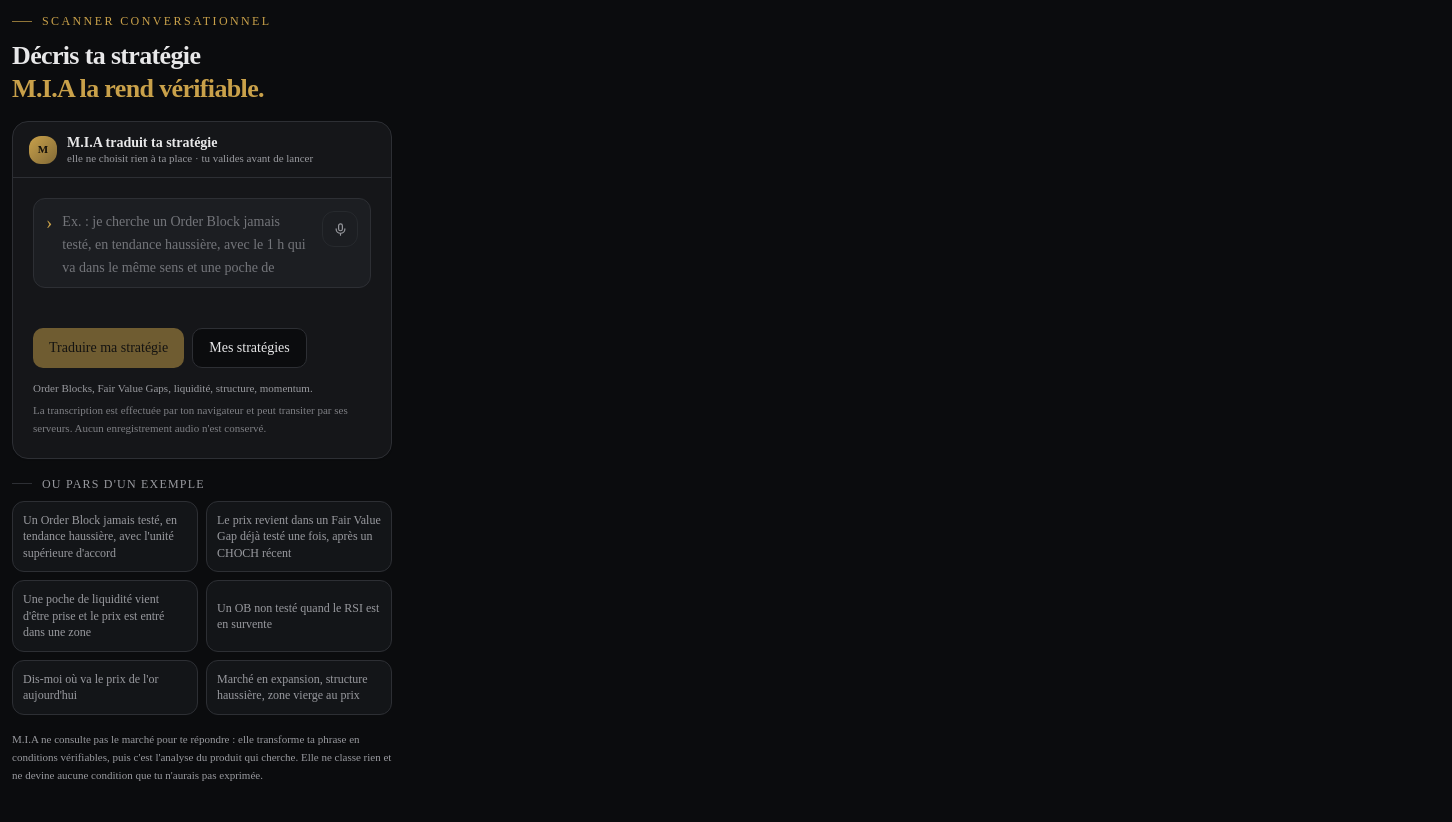
Test: SC-4 — the reading builds while you write › translates on a typing pause, with no click at all
This screenshot has width=1452, height=822.
Replace the text in the text box with test id "describe-input" with "Un Order Block jamais testé en tendance haussière" at (187,243), box left=62, top=211, right=312, bottom=275
Wait 2300 ms
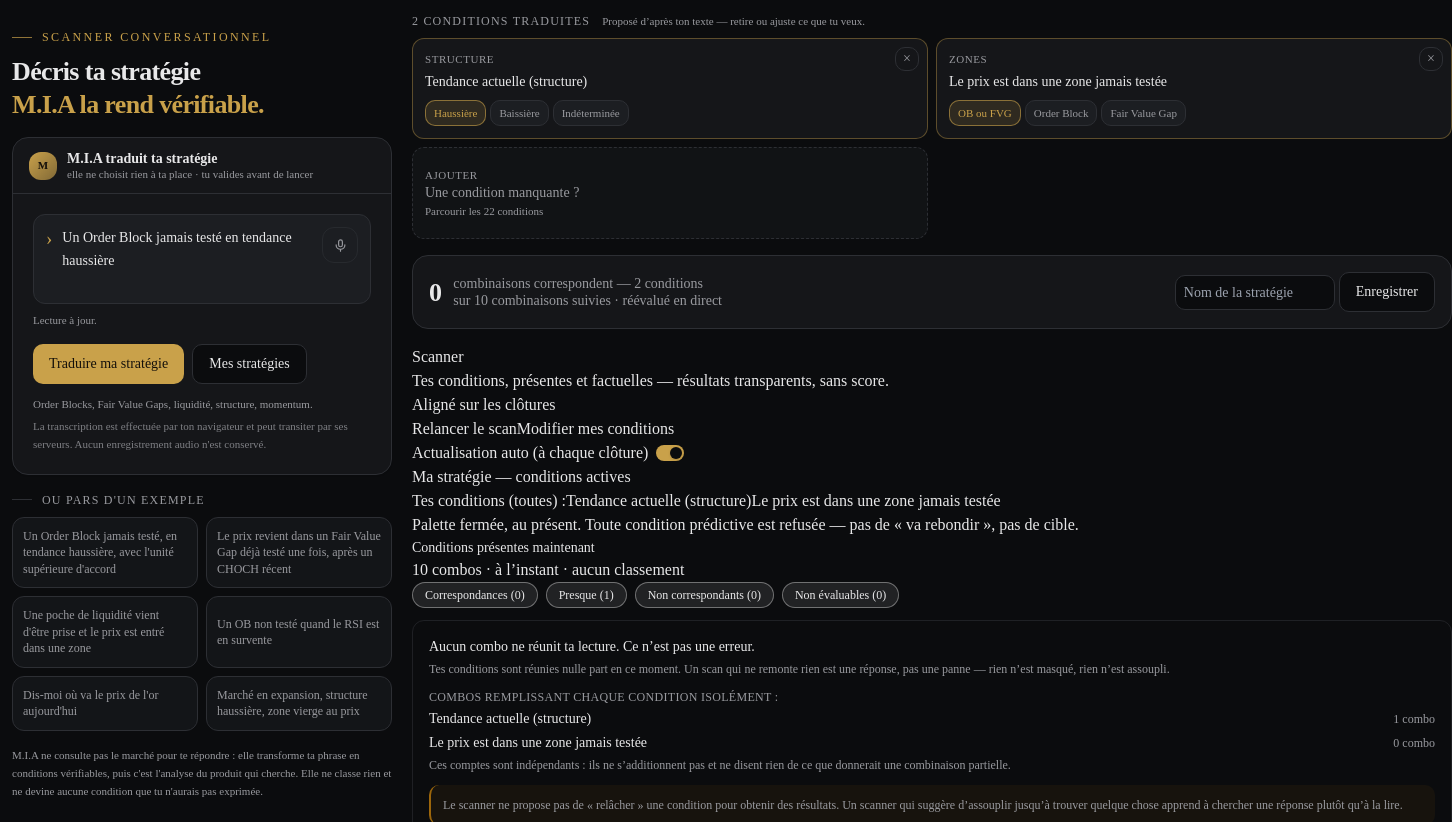
Now the number of elements with test id "translated-card" is 2, box left=412, top=38, right=928, bottom=139; left=936, top=38, right=1451, bottom=139
